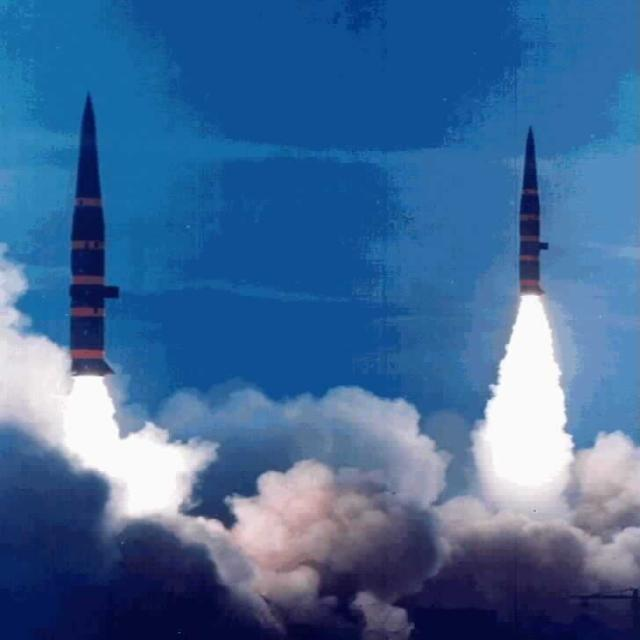missile: (65, 89, 120, 377), (507, 124, 548, 294)
